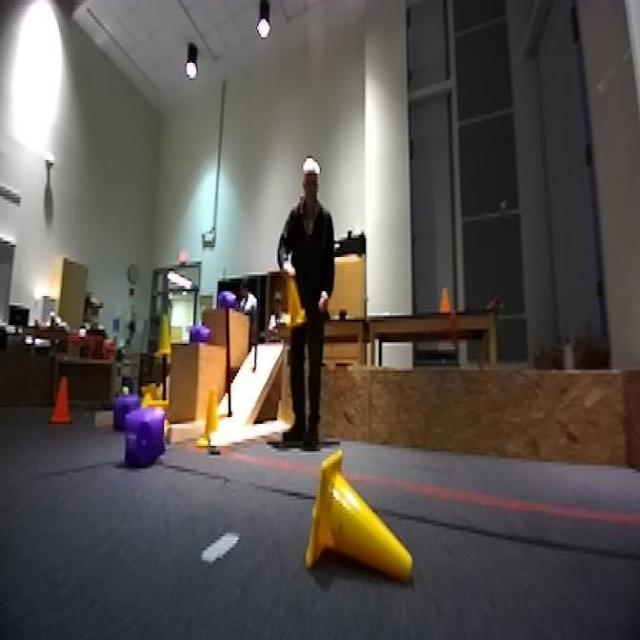frc_cone: (301, 456, 417, 574), (280, 267, 308, 332), (196, 385, 221, 444), (157, 313, 172, 363), (143, 386, 168, 412)
frc_cube: (122, 408, 164, 466), (108, 392, 142, 432), (187, 320, 213, 340), (215, 290, 237, 312)
